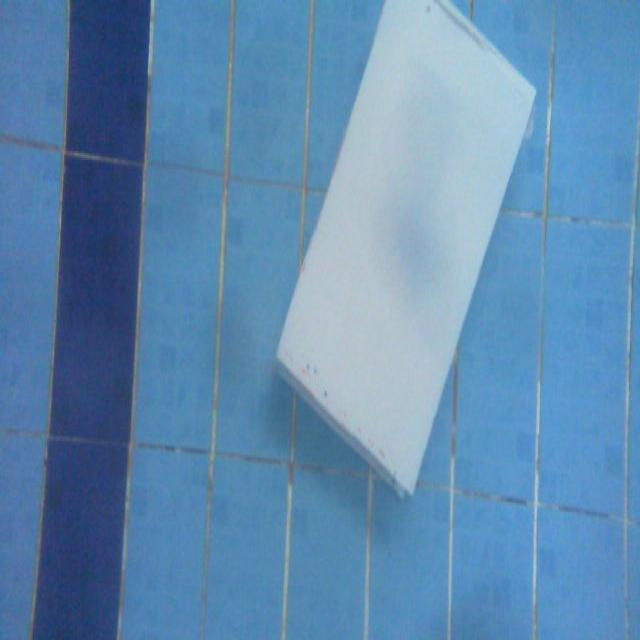Cuboid: (274, 0, 537, 498)
